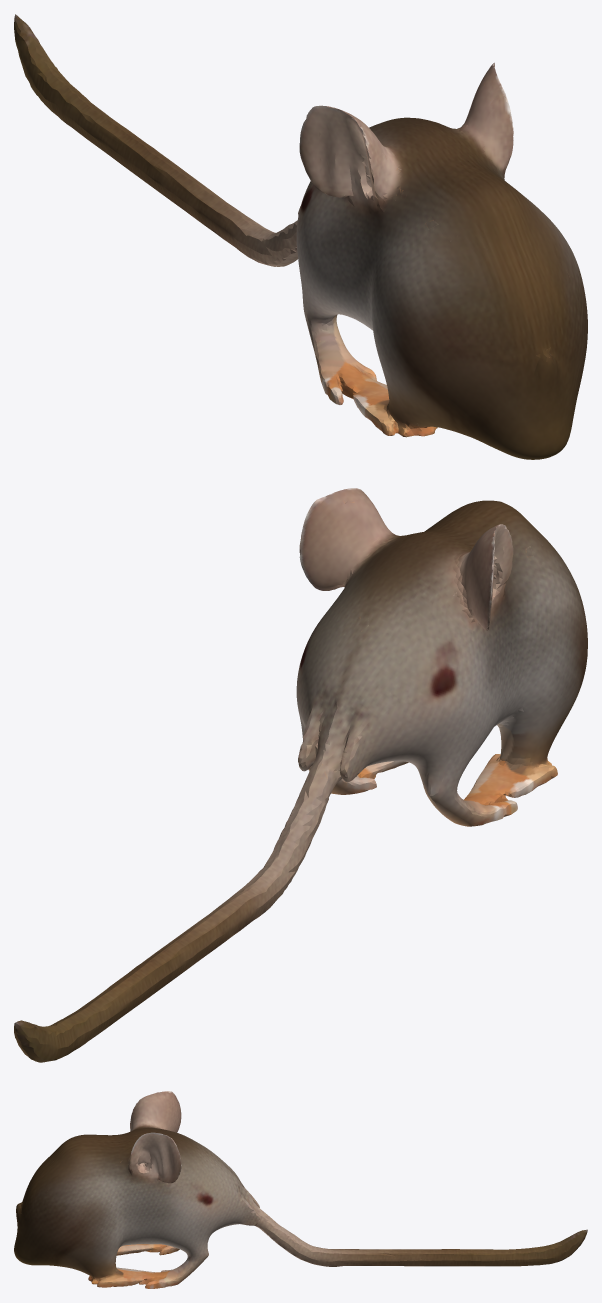
The picture shows the model from 3 angles, top to bottom: view 1: azimuth 30°, elevation 25°; view 2: azimuth 150°, elevation 25°; view 3: azimuth 270°, elevation 25°; orthographic projection. The views are drawn at different scales.
Visible parts, largest first — view 1: TacticalRetreat; view 2: TacticalRetreat; view 3: TacticalRetreat.
Boxes of the visible parts, box(x1,y1,x2,y2) form: TacticalRetreat: box(14, 14, 587, 459); TacticalRetreat: box(14, 488, 587, 1062); TacticalRetreat: box(14, 1091, 587, 1288).
Bounding box in the file's own units: 0.3915 × 0.5603 × 1.9.
Materials: 1 (1 with a texture image).
